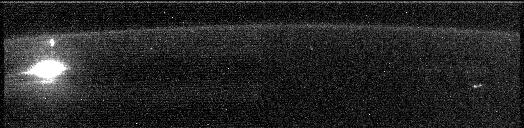positive: (47, 38, 58, 50)
